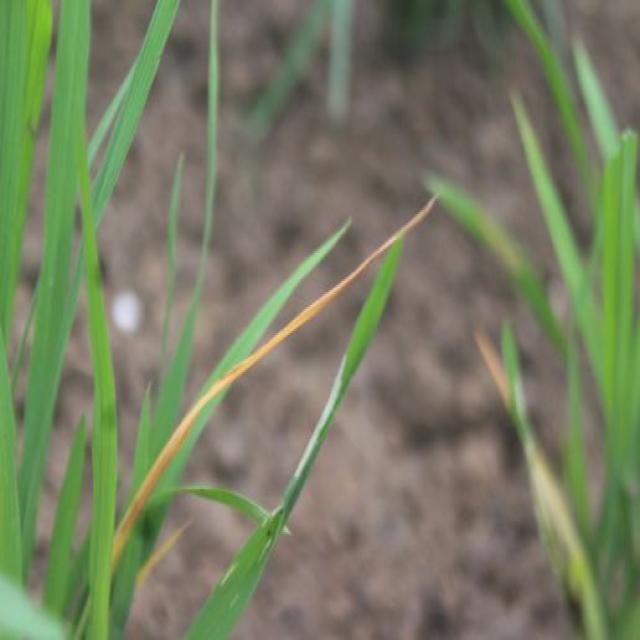Rice Tungro: (115, 200, 440, 466)
